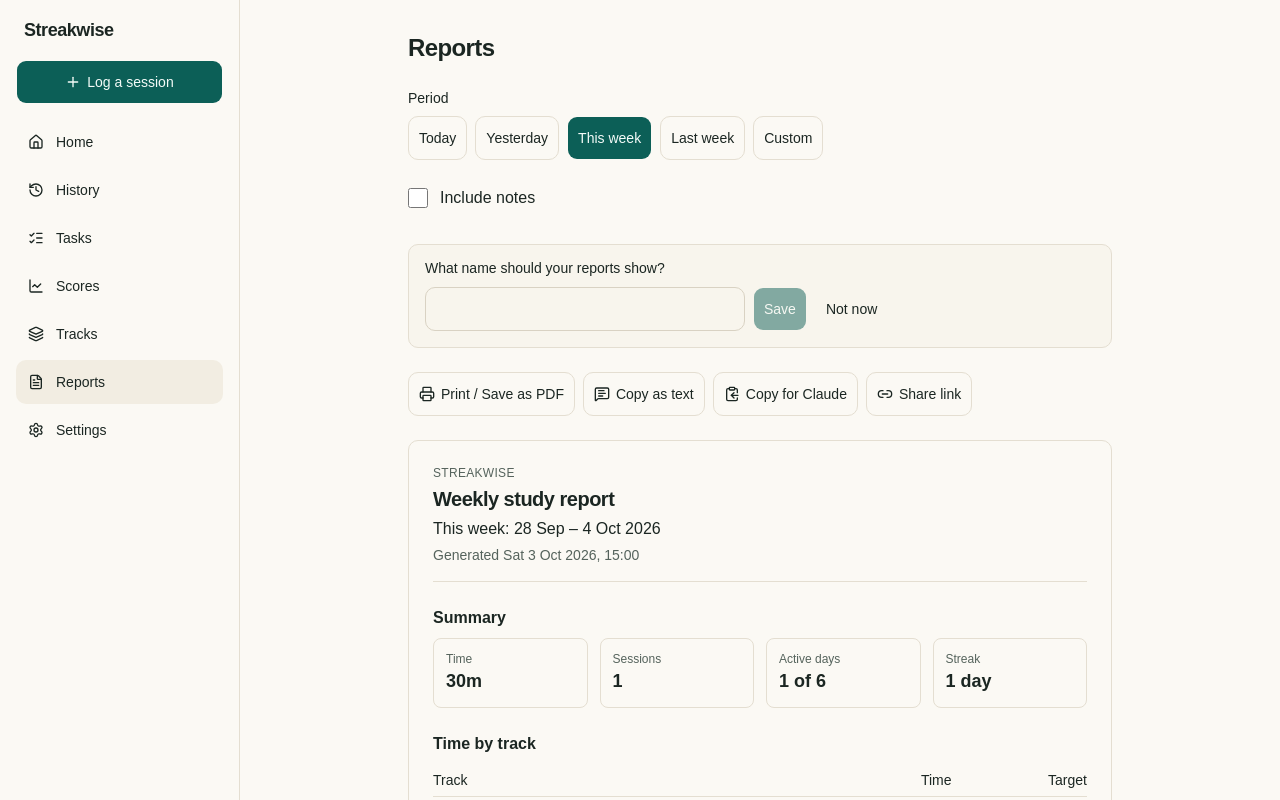
Scenario: Reports (REP-1–8) › includes notes only when the toggle is on (REP-5)
Expected: the heading "Weekly study report" is shown, [433, 488, 614, 510]
Click the checkbox labelled "Include notes": (418, 198) [408, 188, 428, 208]
(page scrolled)
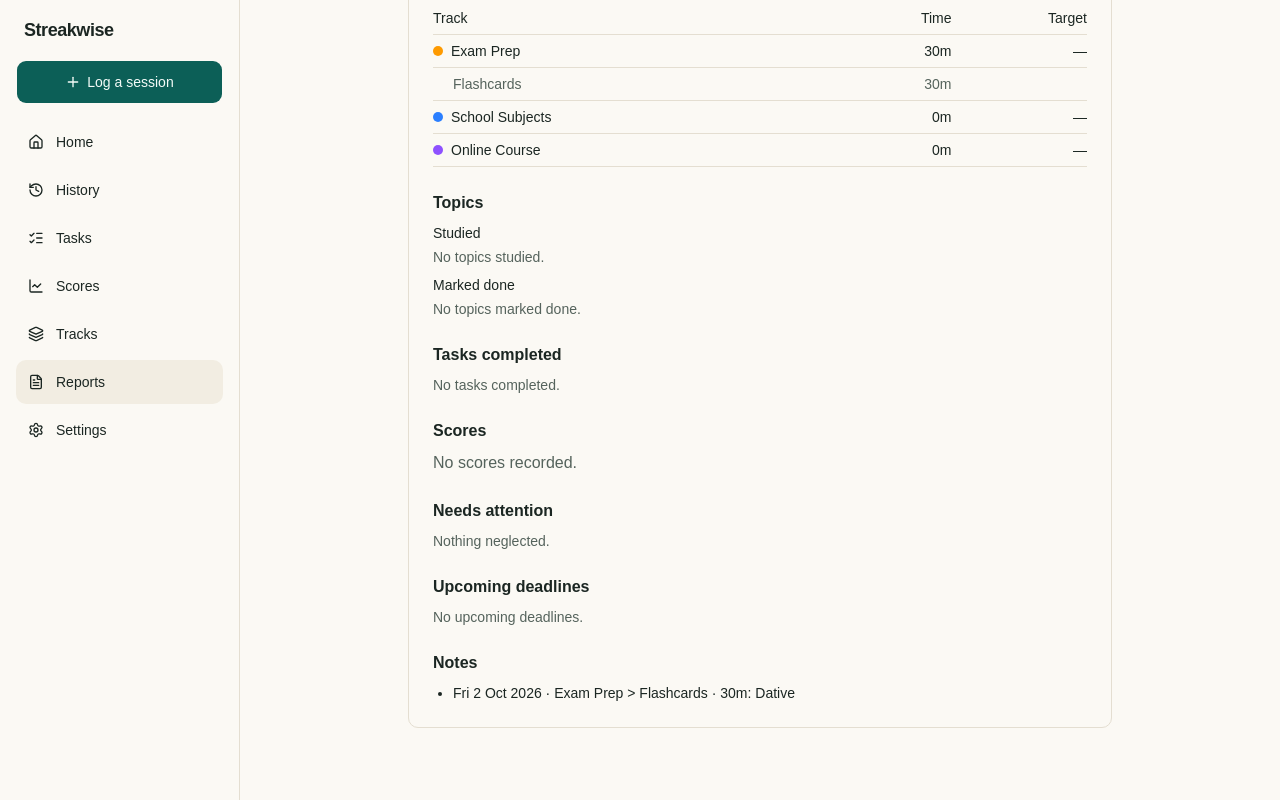
Expected: the heading "Notes" is shown, [433, 654, 478, 671]
Expected: the list item "Fri 2 Oct 2026 · Exam Prep > Flashcards · 30m: Dative" is shown, [453, 685, 795, 701]
